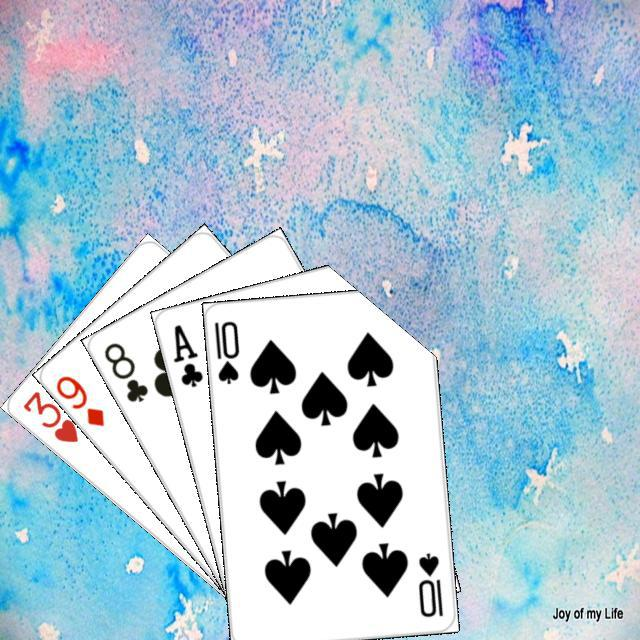10s: (209, 316, 241, 386), (413, 548, 444, 619)
3h: (17, 385, 80, 445)
8c: (99, 337, 150, 404)
9d: (51, 370, 107, 429)
Ac: (168, 319, 205, 389)
